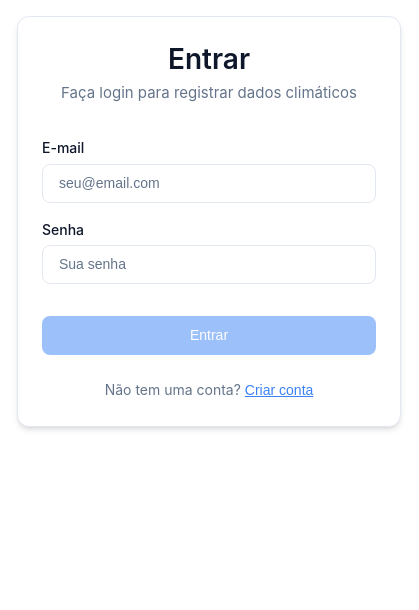
Scenario: LoginView › should switch to register mode when toggle is clicked
The width and height of the screenshot is (419, 610).
Click the button with class "toggle-link". click: (279, 390)
box: [245,382,313,398]
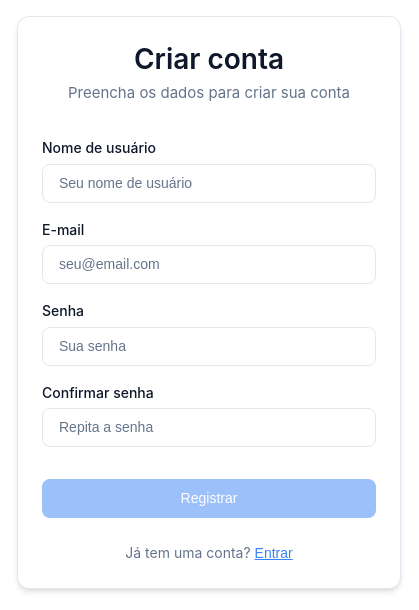
Now the heading "Criar conta" is shown, box [134,42,284,76]
Now the field with id "username" is shown, box [42,164,376,203]
Now the password field with id "confirm-password" is shown, box [42,408,376,447]
